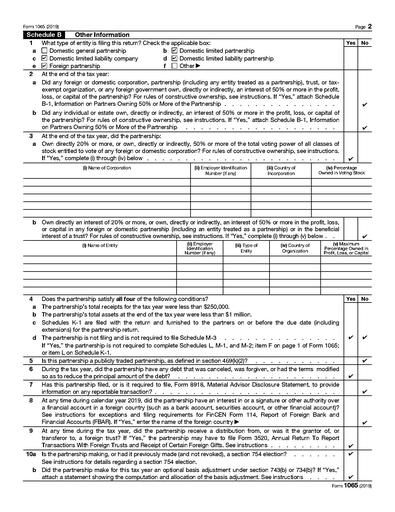checkmark: (362, 126, 369, 132), (362, 390, 369, 396), (362, 102, 368, 108), (362, 235, 368, 241), (362, 335, 368, 341), (348, 374, 354, 380), (362, 420, 368, 426), (348, 475, 354, 481), (349, 157, 355, 162), (349, 336, 355, 341), (363, 359, 368, 365), (348, 452, 354, 457), (349, 444, 354, 449)
filled checkbox: (41, 63, 48, 70), (41, 56, 48, 62), (172, 48, 178, 54), (172, 56, 178, 62)
unfilled checkbox: (172, 63, 179, 70), (41, 48, 48, 54)
